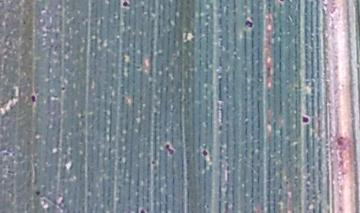tarspot: (160, 140, 178, 158), (298, 110, 312, 129), (242, 14, 255, 33), (28, 90, 39, 109), (199, 146, 211, 163), (118, 1, 133, 12), (30, 187, 44, 198), (135, 204, 150, 213), (59, 82, 67, 95), (150, 158, 160, 168)
